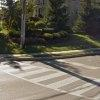Crosswalk: (6, 55, 97, 97)
